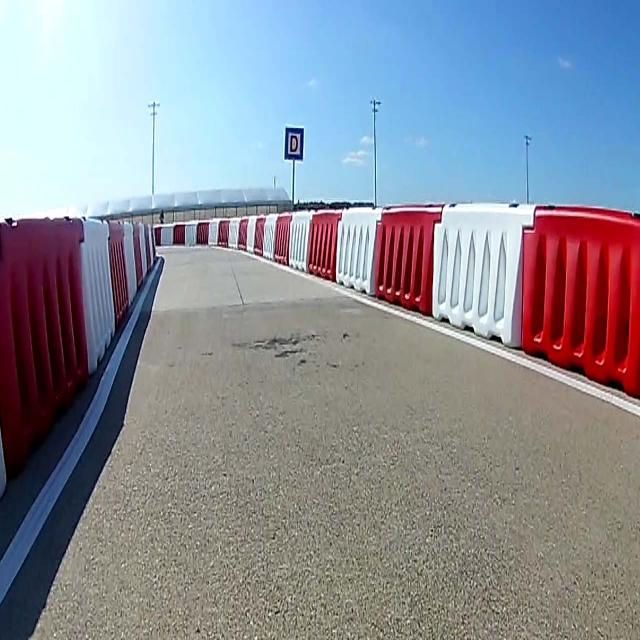durak: (284, 127, 304, 161)
